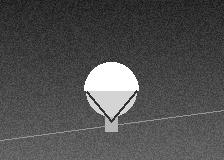helmet: (84, 62, 138, 121)
